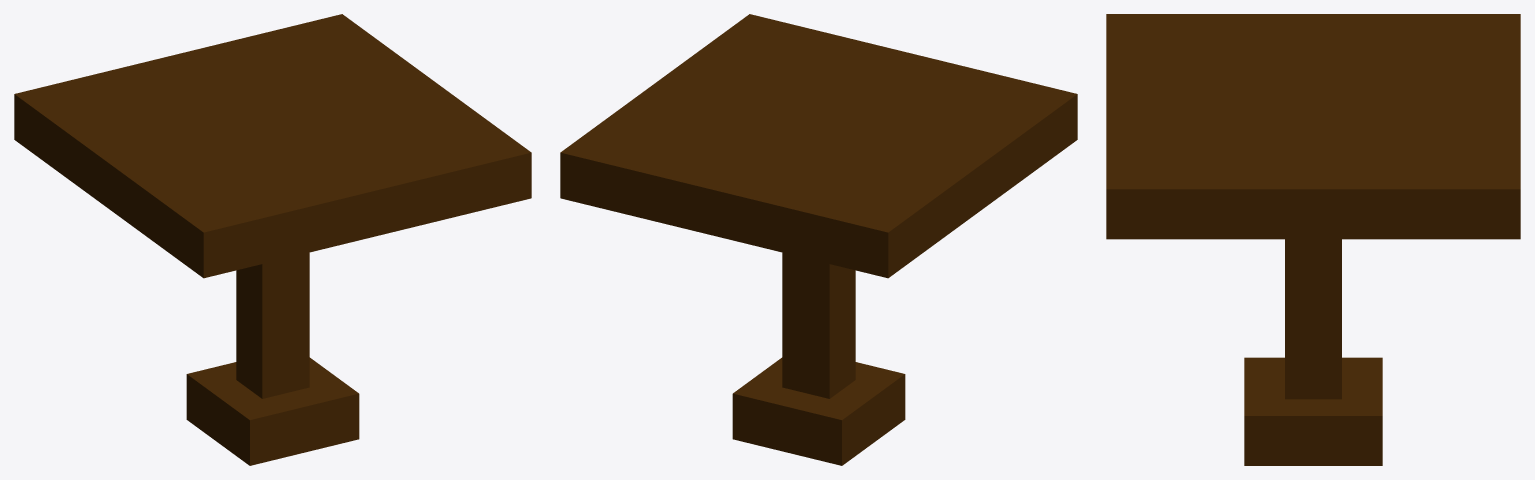
File: stol1.fbx
The picture shows the model from 3 angles, left to right: view 1: azimuth 30°, elevation 25°; view 2: azimuth 150°, elevation 25°; view 3: azimuth 270°, elevation 25°; orthographic projection. The views are drawn at different scales.
Visible parts, largest first — view 1: Объект_Куб, Объект_Куб_2, Объект_Куб_1; view 2: Объект_Куб, Объект_Куб_2, Объект_Куб_1; view 3: Объект_Куб, Объект_Куб_2, Объект_Куб_1.
Boxes of the visible parts, x1,y1,x2,y2 form: Объект_Куб: (14, 14, 531, 278); Объект_Куб_2: (186, 357, 359, 465); Объект_Куб_1: (236, 252, 309, 398); Объект_Куб: (560, 14, 1077, 278); Объект_Куб_2: (732, 357, 905, 465); Объект_Куб_1: (782, 252, 855, 398); Объект_Куб: (1106, 14, 1520, 239); Объект_Куб_2: (1244, 357, 1382, 465); Объект_Куб_1: (1285, 239, 1341, 399).
Size of the model in its own units: 1500 by 1338 by 1500.
